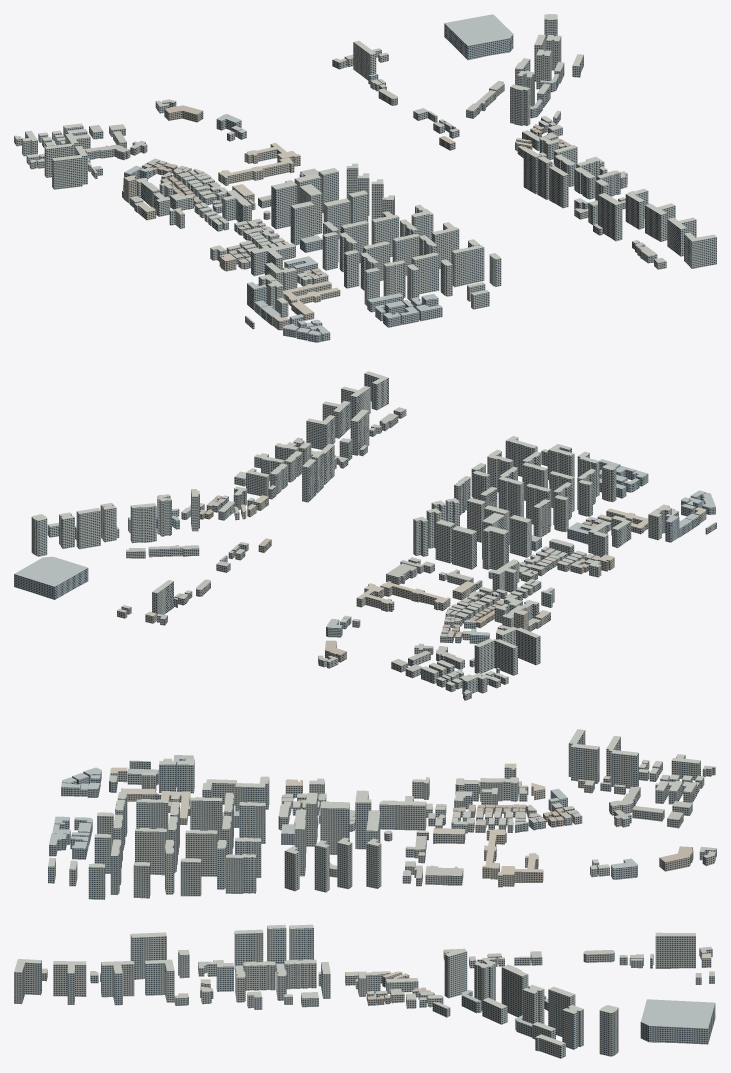
Rendered from city_5_-4.glb.
The picture shows the model from 3 angles, top to bottom: view 1: azimuth 30°, elevation 25°; view 2: azimuth 150°, elevation 25°; view 3: azimuth 270°, elevation 25°; orthographic projection. The views are drawn at different scales.
Size of the model in its own units: 1028 by 79.87 by 1026.
Materials: 5 (5 with a texture image).
